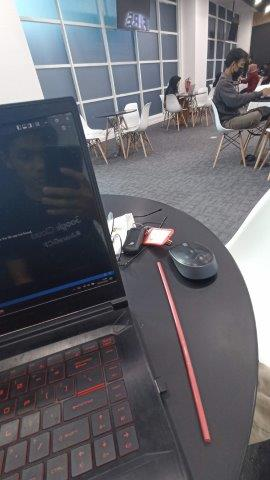sedotan: (157, 263, 210, 443)
